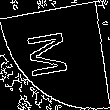M_E: (29, 28, 81, 82)
